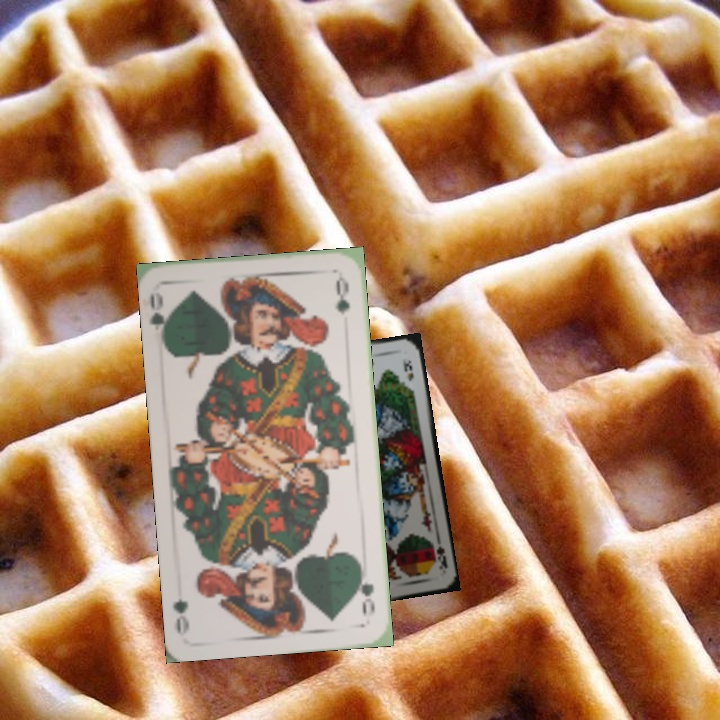GO: (146, 288, 174, 346), (354, 562, 378, 619)
SK: (428, 538, 450, 572)
